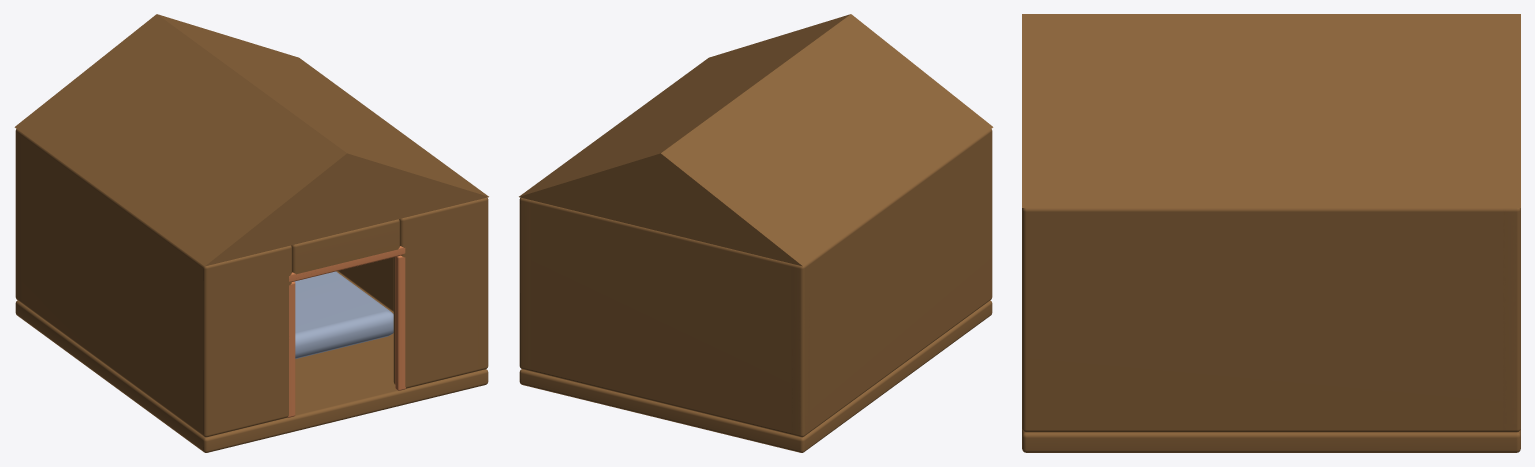
The model's file is kennel.glb.
3 views of the same model, side by side, from view 1: azimuth 30°, elevation 25°; view 2: azimuth 150°, elevation 25°; view 3: azimuth 270°, elevation 25° (orthographic). The views are drawn at different scales.
Visible parts, largest first — view 1: Kennel roof, Kennel side wall, Kennel floor, Kennel panel.001, Kennel panel, Kennel bed, Kennel side wall.001, Kennel lintel, Door jamb.001, Kennel back wall, Door jamb, Door head; view 2: Kennel roof, Kennel back wall, Kennel side wall, Kennel floor, Kennel side wall.001; view 3: Kennel side wall.001, Kennel roof, Kennel floor, Kennel back wall.
Part boxes in pixels (x1,y1,x2,y2): Kennel roof: [14, 14, 488, 266]; Kennel side wall: [15, 129, 216, 437]; Kennel floor: [15, 271, 488, 452]; Kennel panel.001: [393, 200, 477, 388]; Kennel panel: [215, 245, 291, 434]; Kennel bed: [294, 271, 393, 358]; Kennel side wall.001: [338, 197, 488, 371]; Kennel lintel: [291, 219, 399, 274]; Door jamb.001: [395, 255, 405, 390]; Kennel back wall: [16, 130, 21, 302]; Door jamb: [287, 281, 295, 417]; Door head: [289, 246, 405, 281]; Kennel roof: [519, 14, 993, 266]; Kennel back wall: [530, 200, 809, 436]; Kennel side wall: [791, 129, 992, 437]; Kennel floor: [519, 300, 992, 452]; Kennel side wall.001: [519, 197, 530, 371]; Kennel side wall.001: [1022, 208, 1520, 432]; Kennel roof: [1022, 14, 1520, 207]; Kennel floor: [1022, 428, 1520, 452]; Kennel back wall: [1503, 208, 1520, 430].
Bounding box in the file's own units: 0.95 × 0.85 × 1.1.
